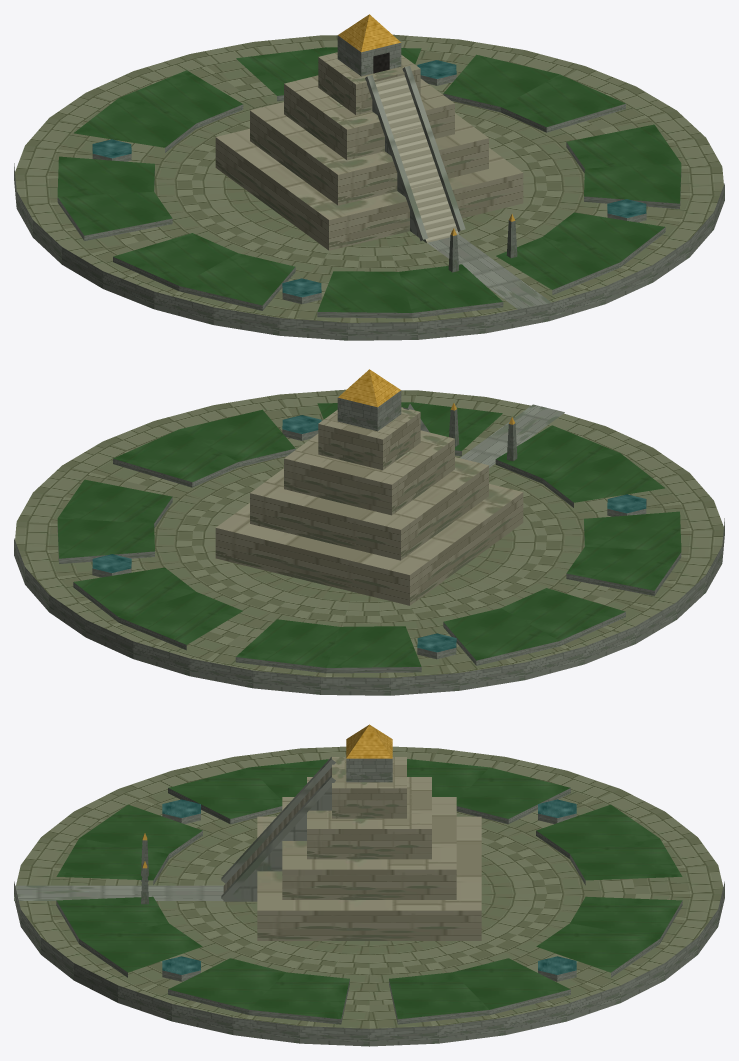
Rendered from pyramid_small_lod1.glb.
The picture shows the model from 3 angles, top to bottom: view 1: azimuth 30°, elevation 25°; view 2: azimuth 150°, elevation 25°; view 3: azimuth 270°, elevation 25°; orthographic projection.
Parts seen in each view (by area): view 1: pyramid_small_lod1; view 2: pyramid_small_lod1; view 3: pyramid_small_lod1.
Boxes of the visible parts, <box> form: pyramid_small_lod1: <box>14,14,724,340</box>; pyramid_small_lod1: <box>14,369,724,695</box>; pyramid_small_lod1: <box>14,724,724,1046</box>.
Size of the model in its own units: 1.88 by 0.512 by 1.9.
Materials: 1 (1 with a texture image).
